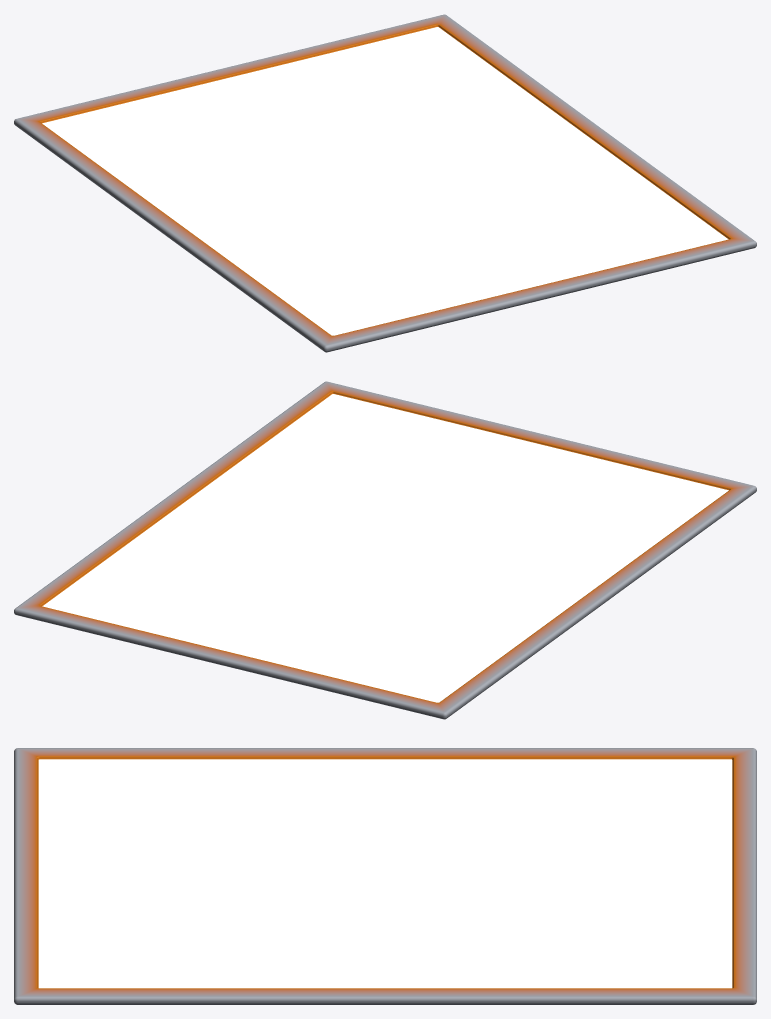
Rendered from boost_pad.glb.
3 views of the same model, one above another, from view 1: azimuth 30°, elevation 25°; view 2: azimuth 150°, elevation 25°; view 3: azimuth 270°, elevation 25° (orthographic). The views are drawn at different scales.
Visible parts, largest first — view 1: boost_pad_mesh; view 2: boost_pad_mesh; view 3: boost_pad_mesh.
Part boxes in pixels (box(x1,y1,x2,y2)): boost_pad_mesh: box(14, 14, 756, 352); boost_pad_mesh: box(14, 381, 756, 719); boost_pad_mesh: box(14, 748, 756, 1004).
Size of the model in its own units: 4 by 0.06 by 5.
